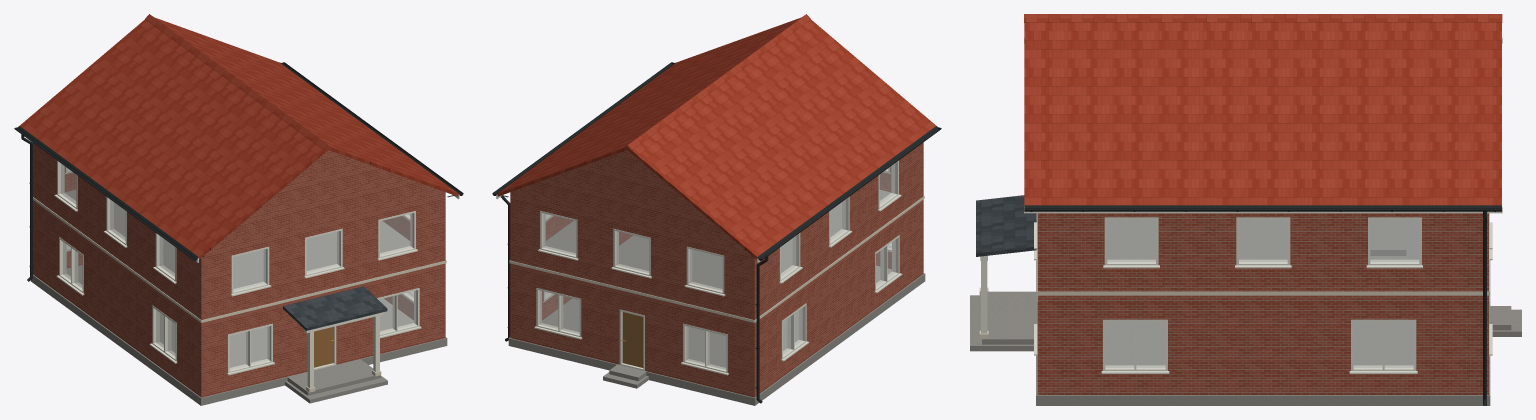
The model's file is detached-two-storey-house.glb.
The picture shows the model from 3 angles, left to right: view 1: azimuth 30°, elevation 25°; view 2: azimuth 150°, elevation 25°; view 3: azimuth 270°, elevation 25°; orthographic projection. The views are drawn at different scales.
Visible parts, largest first — view 1: Detached hollow wall shell with actual openings, Detached main closed pitched roof slab, Detached nominal10x12m projecting foundation plinth, Detached upper finite structural floor with stairwell voids, Detached front porch finite pitched porch canopy, Detached front porch raised entrance landing, Detached main finite ridge cap, Detached front ground picture -3000 finite glazing, Detached front upper window 3000 finite glazing, Detached front upper window -3000 finite glazing, Detached front upper window 0 finite glazing, Detached front ground picture 3000 finite glazing (+23 smaller); view 2: Detached hollow wall shell with actual openings, Detached main closed pitched roof slab, Detached nominal10x12m projecting foundation plinth, Detached upper finite structural floor with stairwell voids, Detached main finite ridge cap, Detached back ground picture -3000 finite glazing, Detached back ground picture 3000 finite glazing, Detached back ground entrance closed finite door leaf, Detached back upper window 3000 finite glazing, Detached back upper window -3000 finite glazing, Detached back upper window 0 finite glazing, Detached front-back floor band 1 (+23 smaller); view 3: Detached main closed pitched roof slab, Detached hollow wall shell with actual openings, Detached nominal10x12m projecting foundation plinth, Detached upper finite structural floor with stairwell voids, Detached main finite ridge cap, Detached front porch finite pitched porch canopy, Detached right ground window -3400 finite glazing, Detached front porch raised entrance landing, Detached right ground window 3200 finite glazing, Detached side floor band 1, Detached right upper window 0 finite glazing, Detached right upper window 3500 finite glazing (+13 smaller).
Part boxes in pixels (bbox=[...]): Detached hollow wall shell with actual openings: bbox=[33, 143, 445, 397]; Detached main closed pitched roof slab: bbox=[19, 17, 459, 259]; Detached nominal10x12m projecting foundation plinth: bbox=[30, 265, 447, 405]; Detached upper finite structural floor with stairwell voids: bbox=[65, 190, 410, 288]; Detached front porch finite pitched porch canopy: bbox=[283, 286, 387, 330]; Detached front porch raised entrance landing: bbox=[287, 359, 380, 395]; Detached main finite ridge cap: bbox=[145, 14, 332, 150]; Detached front ground picture -3000 finite glazing: bbox=[230, 326, 269, 369]; Detached front upper window 3000 finite glazing: bbox=[380, 213, 412, 254]; Detached front upper window -3000 finite glazing: bbox=[233, 249, 265, 290]; Detached front upper window 0 finite glazing: bbox=[307, 231, 338, 272]; Detached front ground picture 3000 finite glazing: bbox=[379, 291, 415, 332]; Detached hollow wall shell with actual openings: bbox=[510, 142, 923, 397]; Detached main closed pitched roof slab: bbox=[496, 17, 936, 259]; Detached nominal10x12m projecting foundation plinth: bbox=[508, 265, 925, 405]; Detached upper finite structural floor with stairwell voids: bbox=[545, 190, 890, 288]; Detached main finite ridge cap: bbox=[623, 14, 810, 150]; Detached back ground picture -3000 finite glazing: bbox=[686, 326, 725, 369]; Detached back ground picture 3000 finite glazing: bbox=[540, 291, 579, 333]; Detached back ground entrance closed finite door leaf: bbox=[622, 312, 643, 367]; Detached back upper window 3000 finite glazing: bbox=[543, 213, 575, 254]; Detached back upper window -3000 finite glazing: bbox=[690, 249, 722, 290]; Detached back upper window 0 finite glazing: bbox=[617, 231, 648, 272]; Detached front-back floor band 1: bbox=[509, 260, 754, 322]; Detached main closed pitched roof slab: bbox=[1024, 22, 1501, 206]; Detached hollow wall shell with actual openings: bbox=[1037, 213, 1488, 394]; Detached nominal10x12m projecting foundation plinth: bbox=[1036, 256, 1490, 405]; Detached upper finite structural floor with stairwell voids: bbox=[1107, 219, 1419, 259]; Detached main finite ridge cap: bbox=[1024, 14, 1502, 22]; Detached front porch finite pitched porch canopy: bbox=[976, 195, 1036, 256]; Detached right ground window -3400 finite glazing: bbox=[1105, 322, 1165, 367]; Detached front porch raised entrance landing: bbox=[982, 291, 1037, 344]; Detached right ground window 3200 finite glazing: bbox=[1354, 322, 1413, 367]; Detached side floor band 1: bbox=[1037, 291, 1488, 295]; Detached right upper window 0 finite glazing: bbox=[1239, 220, 1287, 261]; Detached right upper window 3500 finite glazing: bbox=[1370, 220, 1418, 261].
Size of the model in its own units: 11.06 by 9.15 by 14.67.
10 materials, 10 textured.
